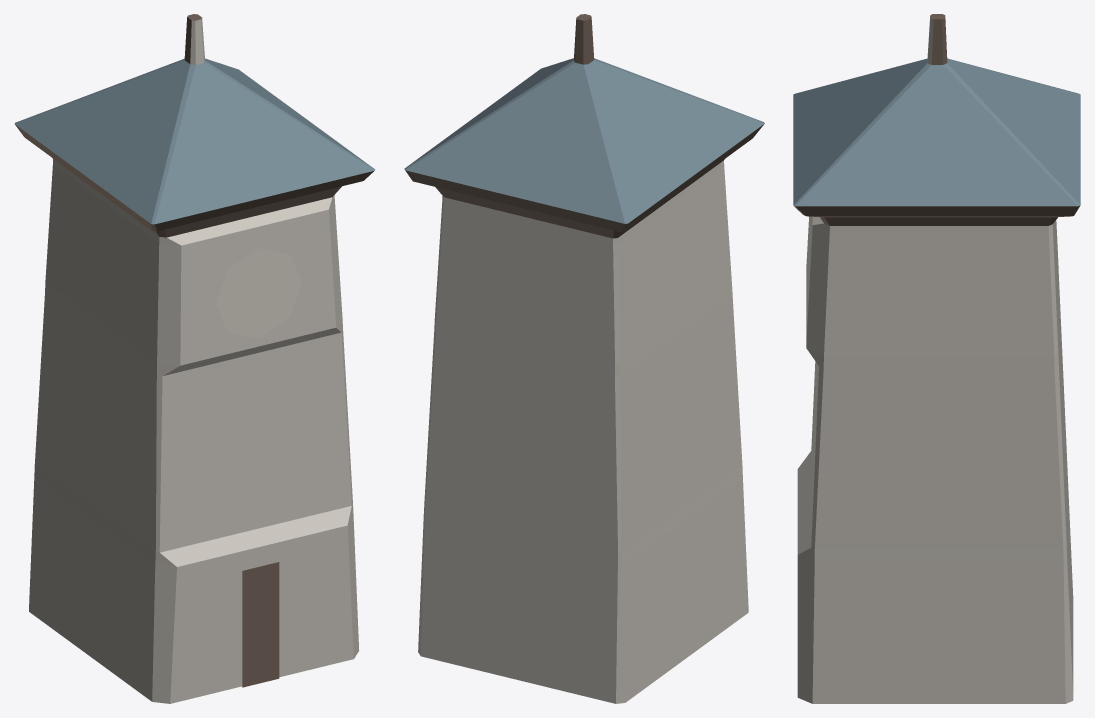
The model's file is loin.glb.
3 renders of one model, left to right at view 1: azimuth 30°, elevation 25°; view 2: azimuth 150°, elevation 25°; view 3: azimuth 270°, elevation 25°, orthographic. The views are drawn at different scales.
Parts seen in each view (by area): view 1: loin; view 2: loin; view 3: loin.
Boxes of the visible parts, box(x1,y1,x2,y2) form: loin: box(14, 14, 375, 703); loin: box(404, 14, 764, 703); loin: box(793, 14, 1080, 703).
Bounding box in the file's own units: 0.3645 × 0.9557 × 0.392.
